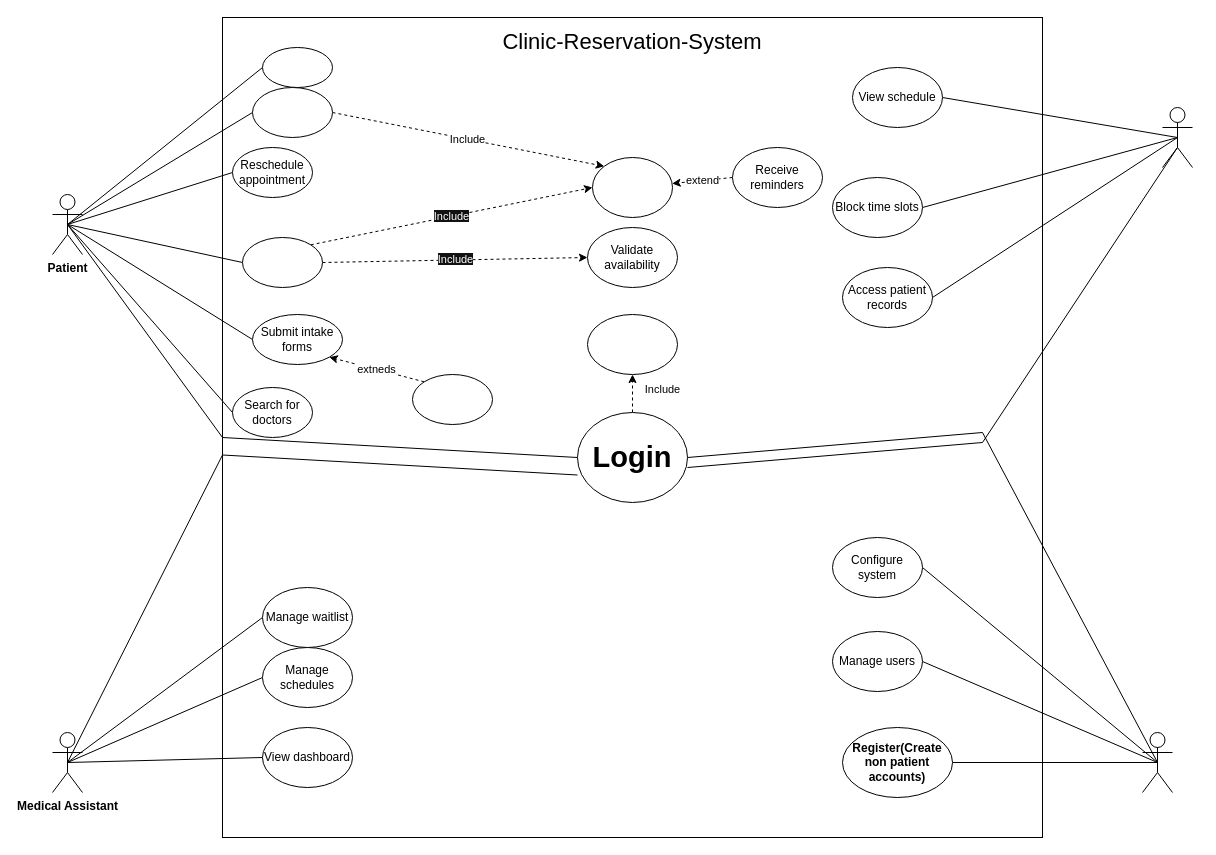
The diagram is 1216 pixels wide and 855 high, and some of its shapes have lost their labels. The centre of each missing label's shape, as x and y in pixels:
Book appointment: the point at 282,262
Cancel appointment: the point at 292,112
Doctor: the point at 1177,137
Register: the point at 297,67
Send notification: the point at 632,187
System Admin: the point at 1157,762
Upload insurance: the point at 452,399
Validate credentials: the point at 632,344
